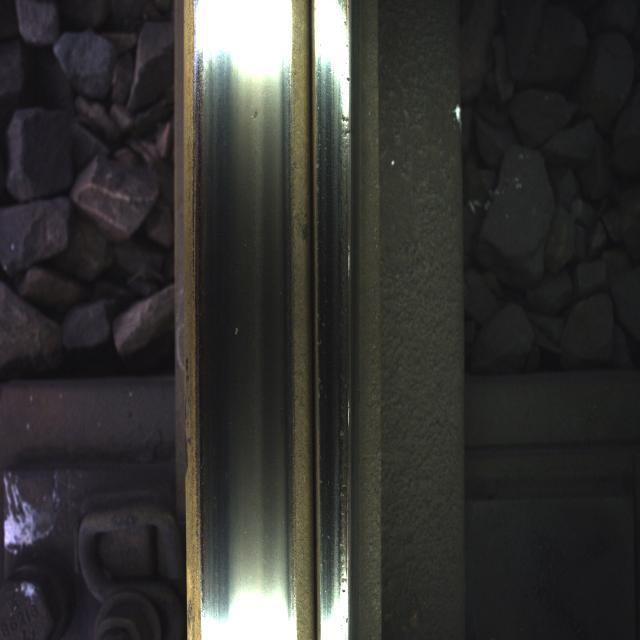normal: (208, 58, 276, 538)
